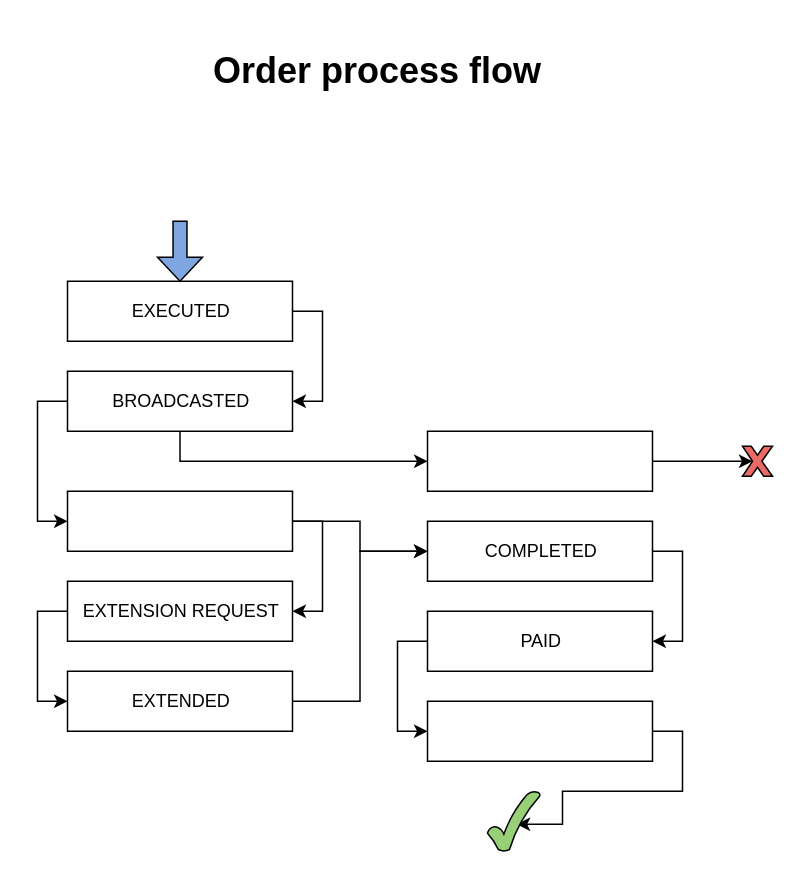
Some shapes in this 798 by 878 pixel diagram are drawn without their labels. Here are the shapes that lost their labels. From the top down, the centre of each, then its label:
(x=539, y=460): CANCELLED
(x=179, y=520): STARTED
(x=539, y=730): PAYMENT VERIFIED
